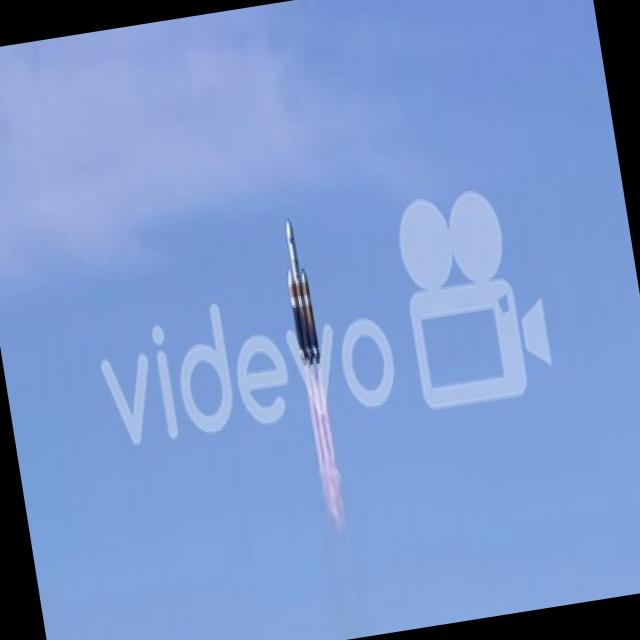rocket: (276, 213, 329, 409)
